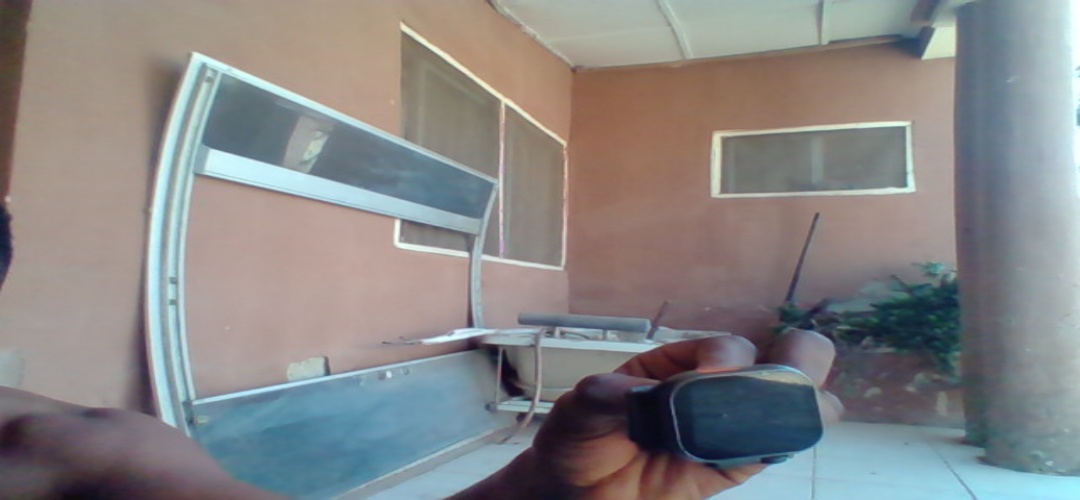smart_watch: (641, 366, 825, 469)
